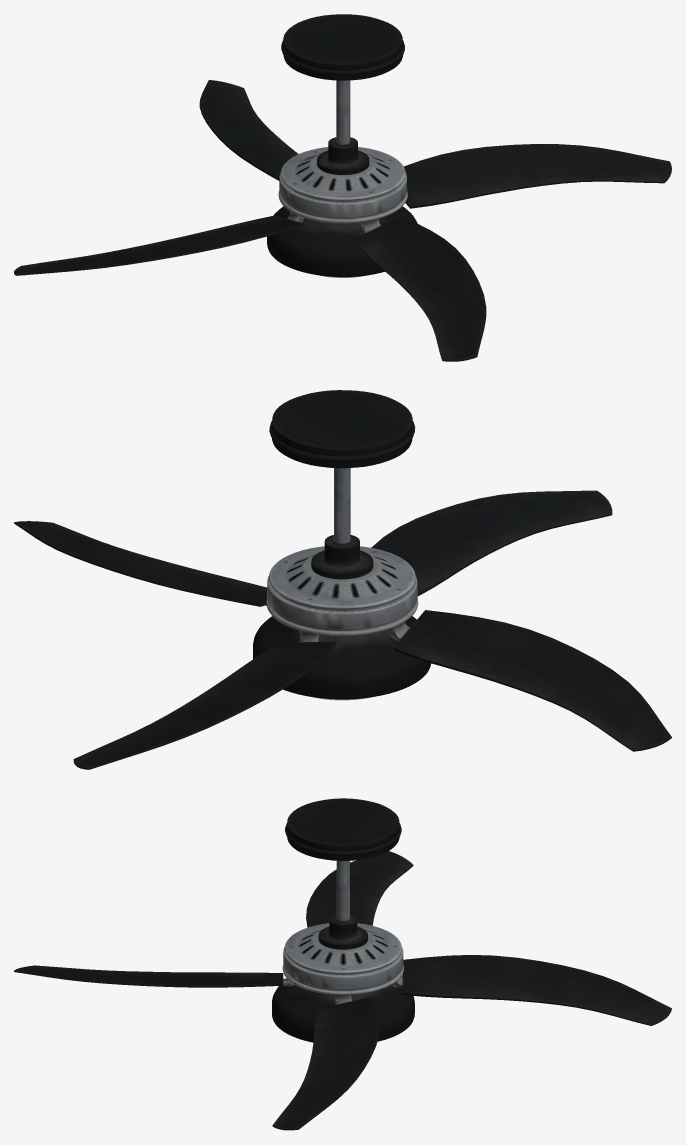
File: ceiling_fan.glb
3 views of the same model, one above another, from view 1: azimuth 30°, elevation 25°; view 2: azimuth 150°, elevation 25°; view 3: azimuth 270°, elevation 25° (orthographic). The views are drawn at different scales.
Parts seen in each view (by area): view 1: ceiling_fan; view 2: ceiling_fan; view 3: ceiling_fan.
Part boxes in pixels (x1,y1,x2,y2): ceiling_fan: (14, 14, 671, 361); ceiling_fan: (14, 390, 671, 769); ceiling_fan: (14, 798, 671, 1130).
Size of the model in its own units: 1.46 by 0.5163 by 1.46.
Materials: 1 (1 with a texture image).
